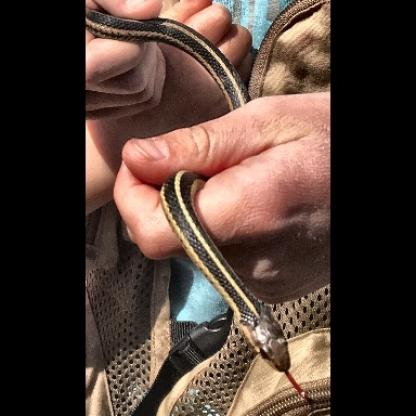Snake: (157, 166, 294, 374)
